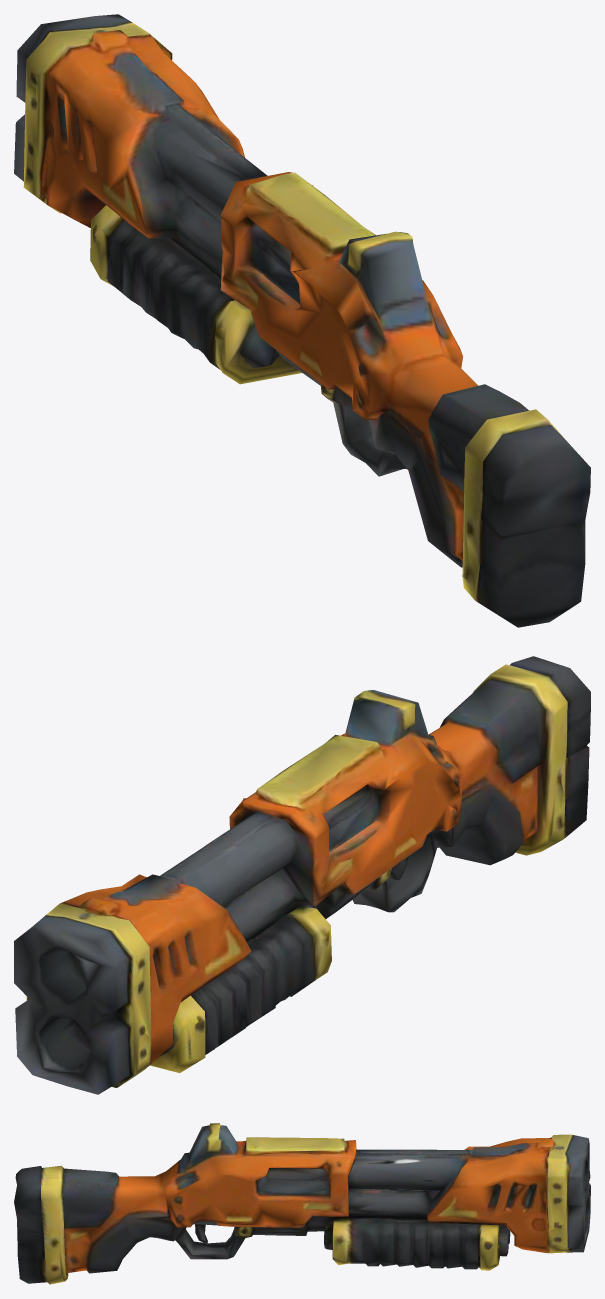
The model's file is gun-rook.glb.
3 views of the same model, one above another, from view 1: azimuth 30°, elevation 25°; view 2: azimuth 150°, elevation 25°; view 3: azimuth 270°, elevation 25° (orthographic). The views are drawn at different scales.
Visible parts, largest first — view 1: gun-rook; view 2: gun-rook; view 3: gun-rook.
Boxes of the visible parts, x1=… form: gun-rook: x1=14, y1=14, x2=590, y2=627; gun-rook: x1=14, y1=656, x2=590, y2=1094; gun-rook: x1=14, y1=1123, x2=590, y2=1284.
Bounding box in the file's own units: 0.1396 × 0.2615 × 0.898.
Materials: 1 (1 with a texture image).
